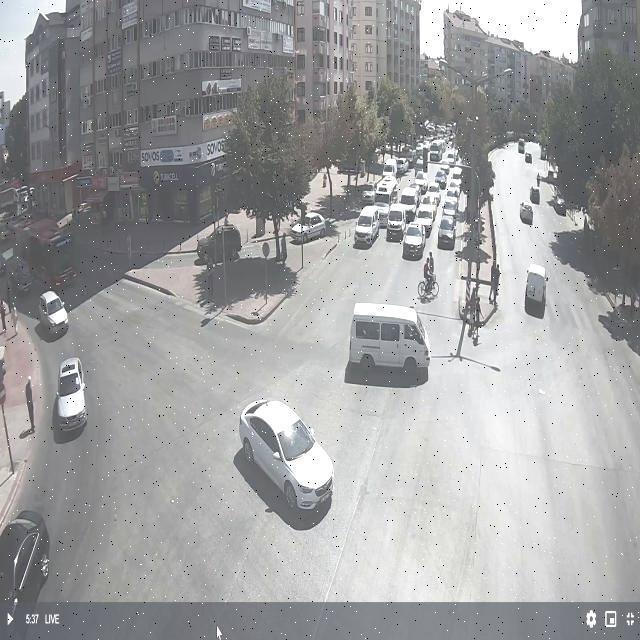Car: (239, 397, 336, 512), (348, 302, 430, 377), (1, 512, 49, 614), (54, 357, 88, 431), (196, 223, 242, 264), (38, 291, 69, 336), (290, 212, 328, 243), (354, 206, 382, 246), (525, 264, 547, 314), (386, 204, 412, 238), (402, 224, 426, 258), (414, 206, 436, 236), (437, 217, 457, 250), (398, 187, 419, 211), (370, 202, 390, 226), (419, 193, 439, 214), (6, 216, 28, 233), (452, 193, 467, 215), (1, 246, 15, 269), (360, 185, 376, 204), (382, 158, 398, 177), (443, 194, 458, 214), (414, 173, 428, 194), (552, 196, 566, 216), (428, 142, 442, 162), (0, 356, 7, 396), (520, 203, 533, 224), (374, 191, 391, 207), (0, 204, 16, 220), (426, 181, 441, 198), (434, 169, 448, 187), (395, 157, 409, 175), (406, 222, 424, 236), (442, 208, 457, 224), (448, 178, 462, 195), (432, 138, 447, 152), (415, 144, 425, 164), (6, 179, 23, 190), (380, 144, 398, 154), (450, 166, 462, 181), (444, 149, 456, 164), (530, 186, 540, 204), (406, 149, 417, 165), (438, 165, 451, 178), (0, 227, 12, 241), (394, 143, 408, 154), (415, 157, 425, 172), (0, 344, 6, 366), (325, 217, 337, 228), (20, 214, 32, 224), (0, 262, 8, 276), (22, 190, 31, 202), (528, 130, 538, 140), (445, 132, 454, 143), (0, 178, 11, 187), (416, 136, 426, 145), (28, 187, 36, 198), (540, 145, 548, 156), (518, 139, 524, 153), (506, 131, 515, 140), (556, 197, 565, 206), (550, 170, 558, 180), (525, 152, 532, 163), (448, 123, 456, 132), (424, 120, 431, 130), (447, 140, 455, 148), (374, 147, 382, 155)
